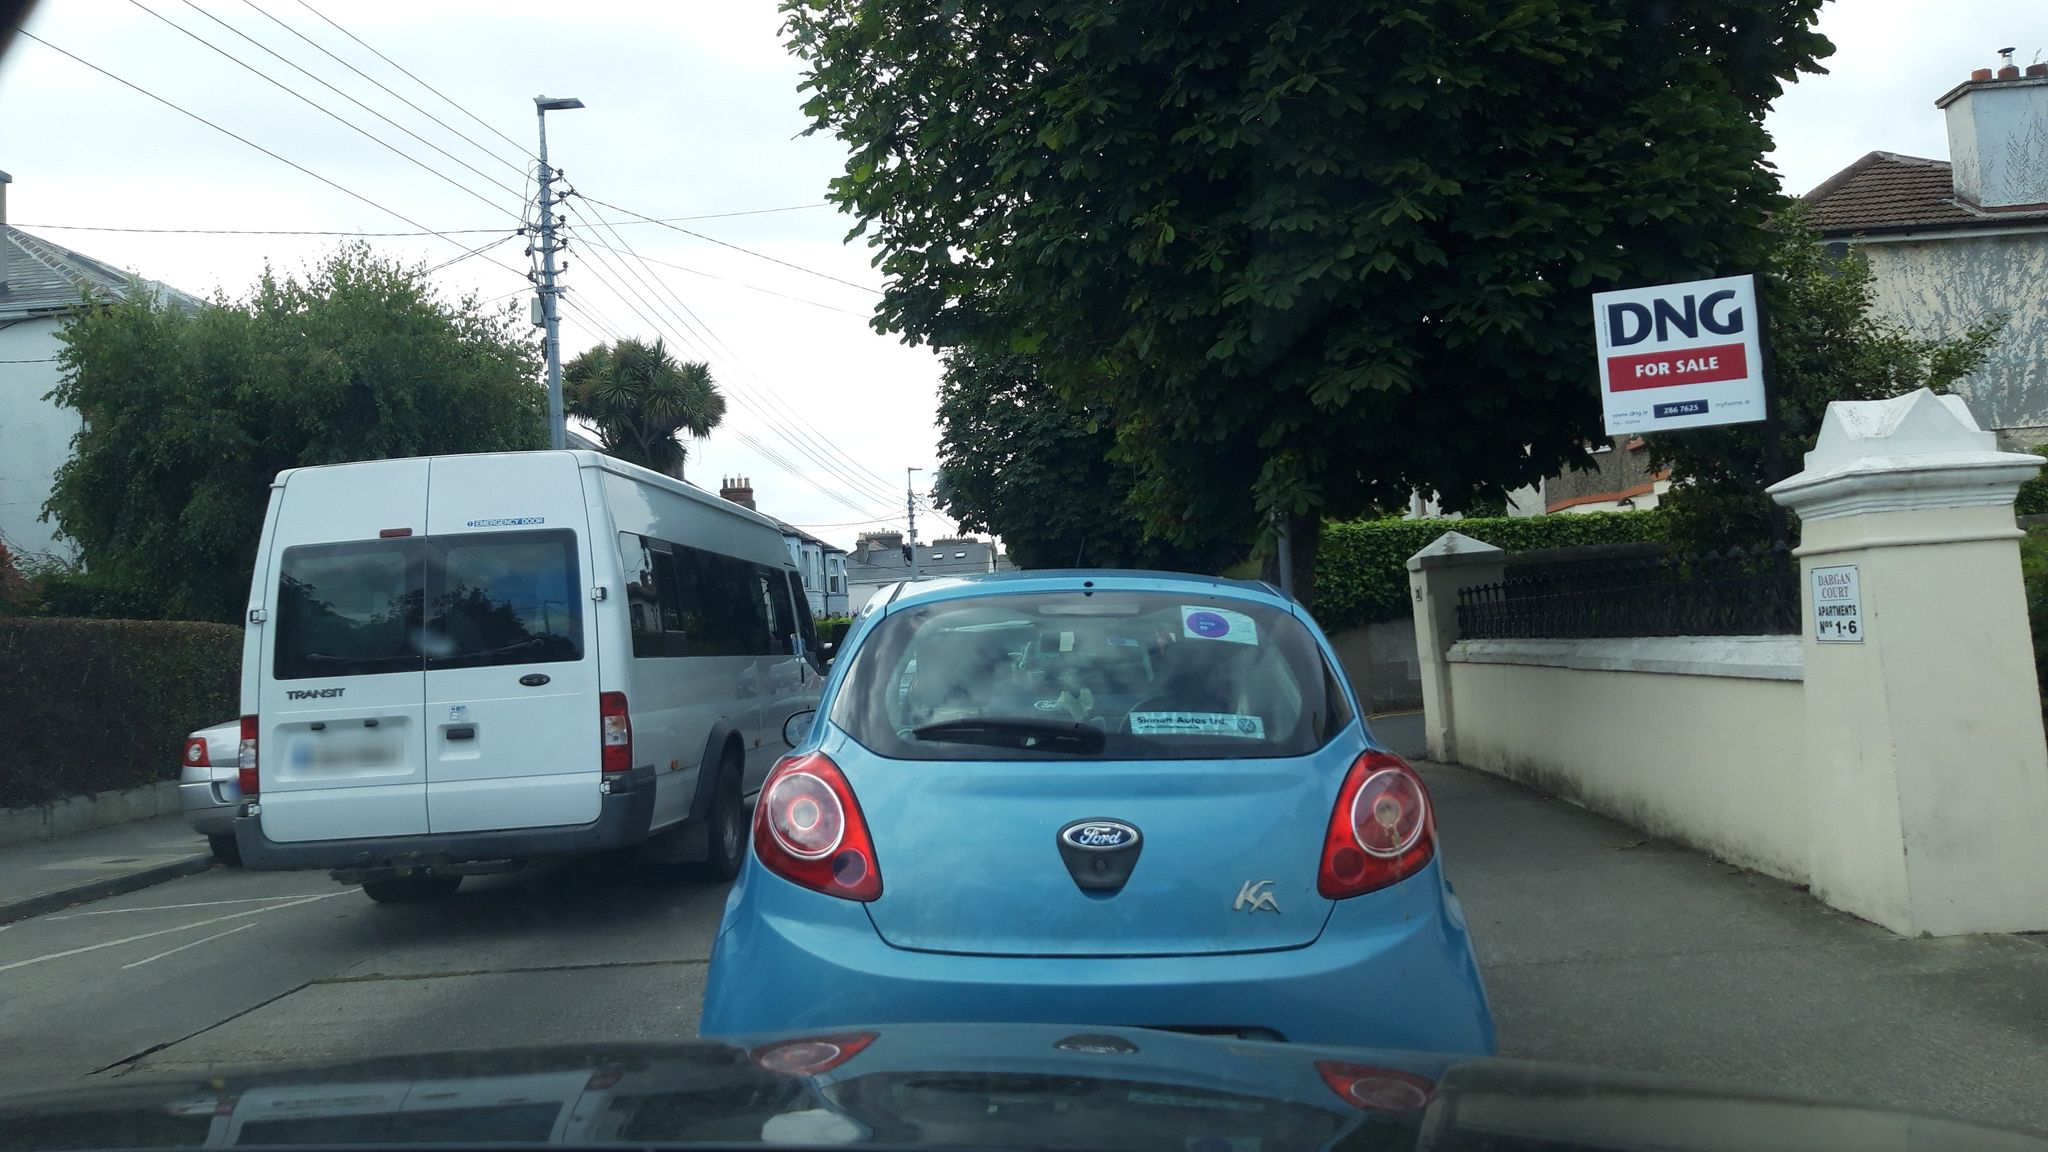property sign: (1568, 257, 1786, 452)
